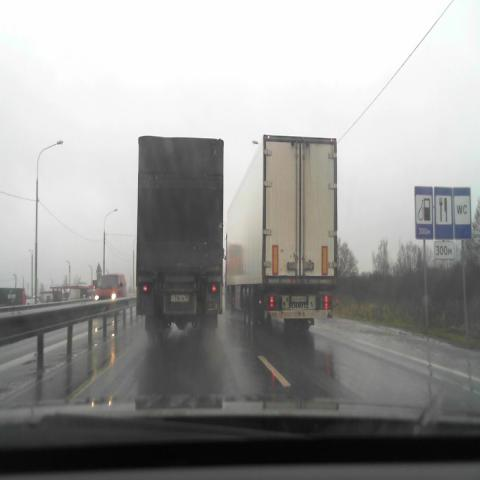7_18: (453, 188, 471, 239)
7_7: (434, 187, 454, 239)
